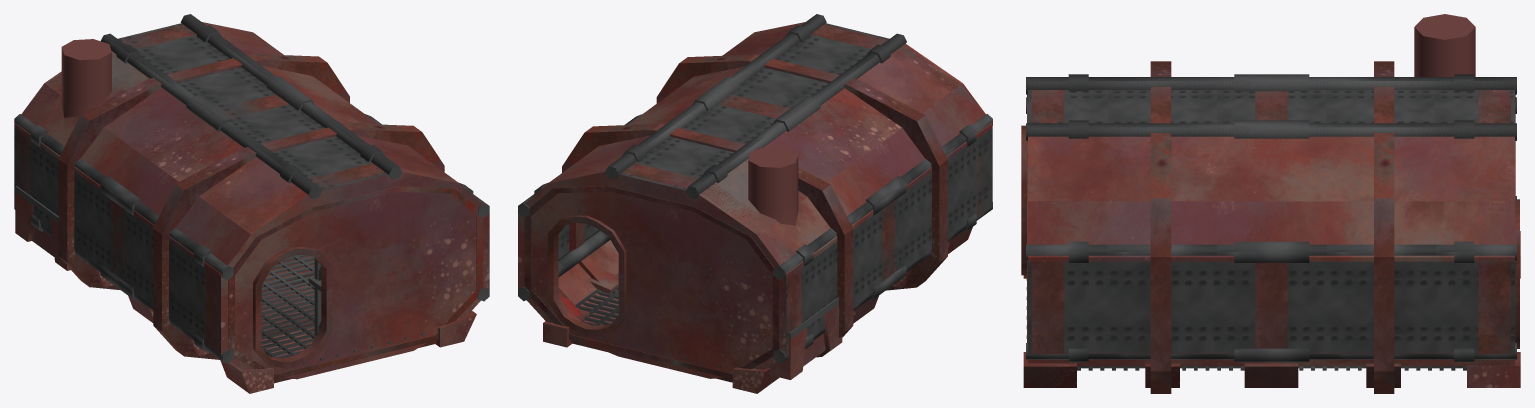
File: Storage_Room.obj
3 views of the same model, side by side, from view 1: azimuth 30°, elevation 25°; view 2: azimuth 150°, elevation 25°; view 3: azimuth 270°, elevation 25° (orthographic). The views are drawn at different scales.
Parts seen in each view (by area): view 1: Cube.011; view 2: Cube.011; view 3: Cube.011.
Boxes of the visible parts, bbox=[...] form: Cube.011: bbox=[14, 14, 489, 393]; Cube.011: bbox=[518, 14, 992, 393]; Cube.011: bbox=[1021, 14, 1520, 393].
Bounding box in the file's own units: 6.32 × 4.8 × 8.2.
5 materials, 5 textured.
